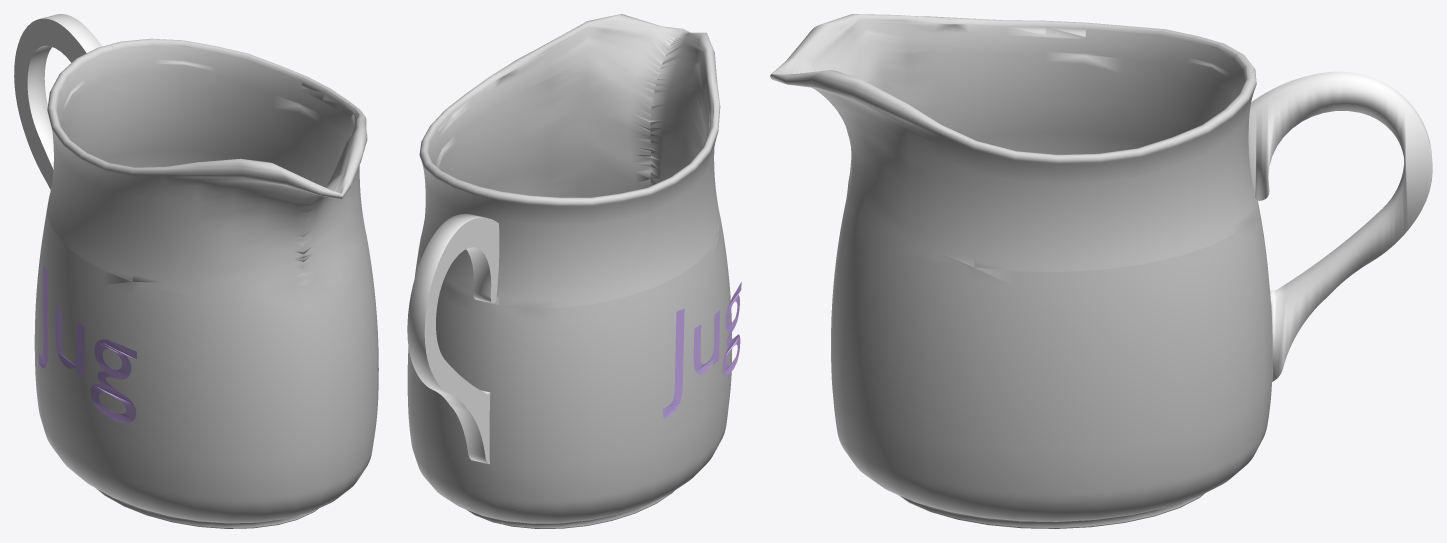
Rendered from jug_anim.fbx.
3 renders of one model, left to right at view 1: azimuth 30°, elevation 25°; view 2: azimuth 150°, elevation 25°; view 3: azimuth 270°, elevation 25°, orthographic. The views are drawn at different scales.
Visible parts, largest first — view 1: Text; view 2: Text; view 3: Text.
Part boxes in pixels (x1,y1,x2,y2): Text: (14,14,378,528); Text: (407,14,741,528); Text: (770,14,1432,528).
Size of the model in its own units: 69.87 by 92.85 by 130.
